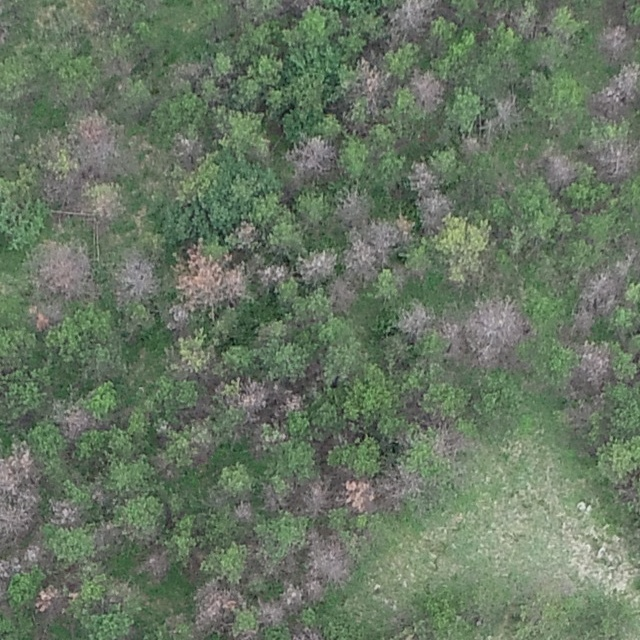unhealthy: (466, 295, 528, 365), (31, 240, 95, 299), (588, 61, 639, 122), (173, 245, 222, 307), (71, 113, 121, 173), (303, 534, 357, 586), (191, 577, 240, 631), (112, 252, 160, 303), (576, 264, 624, 311), (287, 133, 337, 178), (590, 136, 640, 179), (0, 489, 35, 550), (376, 464, 422, 510), (80, 184, 124, 231), (342, 230, 382, 281), (385, 0, 439, 36), (575, 342, 613, 389), (405, 68, 446, 111), (369, 217, 414, 254), (295, 247, 339, 284), (417, 190, 453, 233), (395, 301, 435, 338), (40, 170, 80, 206), (596, 22, 632, 62), (0, 446, 33, 489), (335, 189, 373, 226), (541, 148, 577, 187), (487, 92, 521, 131), (357, 64, 390, 104), (299, 475, 331, 516), (342, 476, 376, 514), (438, 317, 466, 363), (58, 405, 94, 439), (47, 496, 85, 528), (171, 130, 205, 165), (326, 277, 358, 314), (139, 546, 172, 581), (408, 157, 440, 193), (431, 426, 468, 457), (26, 300, 61, 332), (238, 376, 270, 411), (33, 584, 67, 616), (261, 478, 291, 513), (99, 52, 136, 79), (93, 519, 123, 552), (563, 309, 597, 338), (167, 58, 208, 82), (254, 261, 289, 289), (165, 301, 195, 333), (256, 597, 287, 627), (619, 234, 640, 276), (225, 263, 249, 299), (232, 219, 260, 248), (280, 580, 304, 610), (277, 389, 305, 414), (459, 133, 484, 159), (22, 543, 48, 567), (302, 576, 325, 603), (232, 500, 256, 524), (291, 624, 324, 639), (0, 555, 17, 580), (282, 0, 317, 12), (231, 627, 260, 640)
